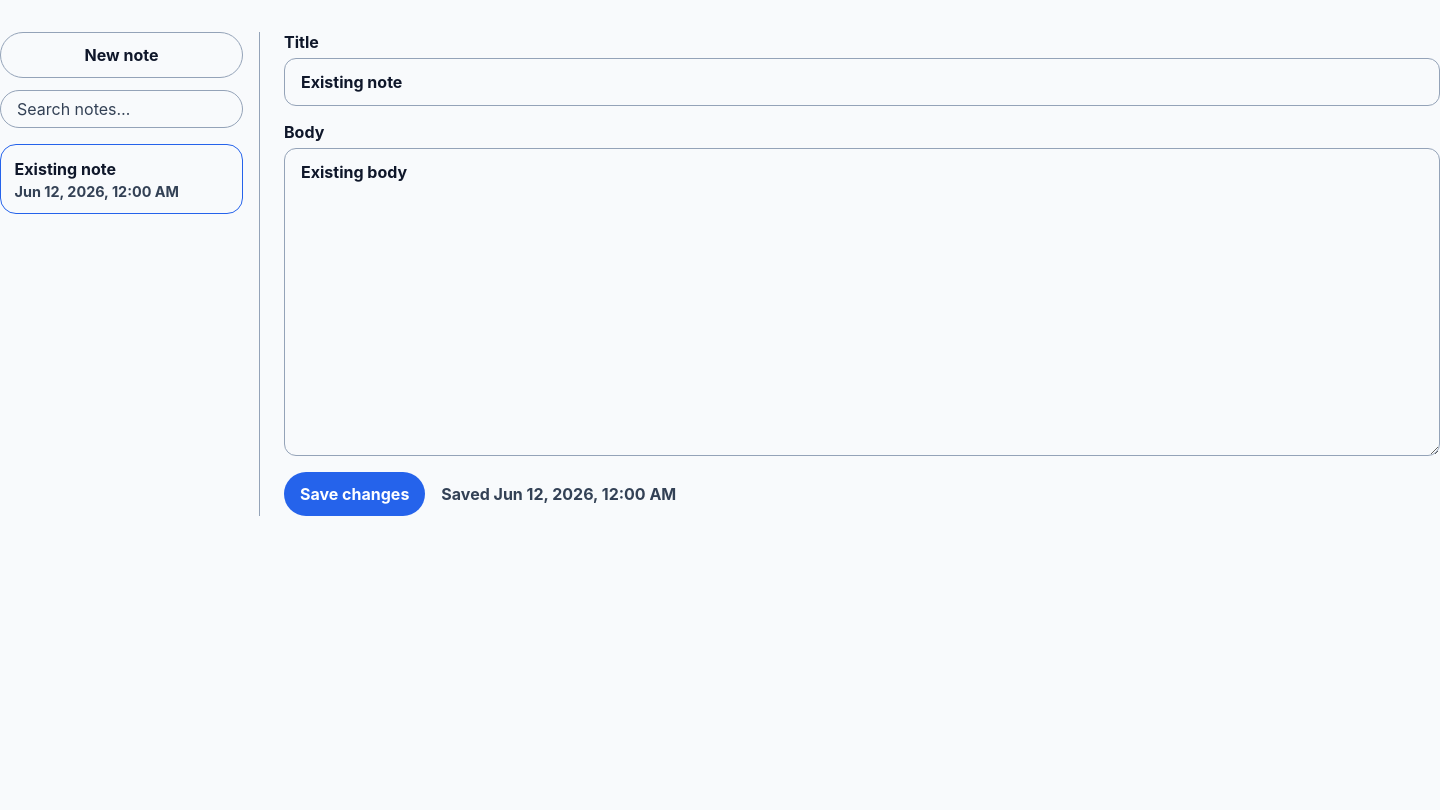
Test: NoteEditor › unsaved changes guard › shows discard dialog when clicking new note with unsaved changes
Type " modified" into the field labelled "Title" at [862, 82], box left=284, top=58, right=1439, bottom=106
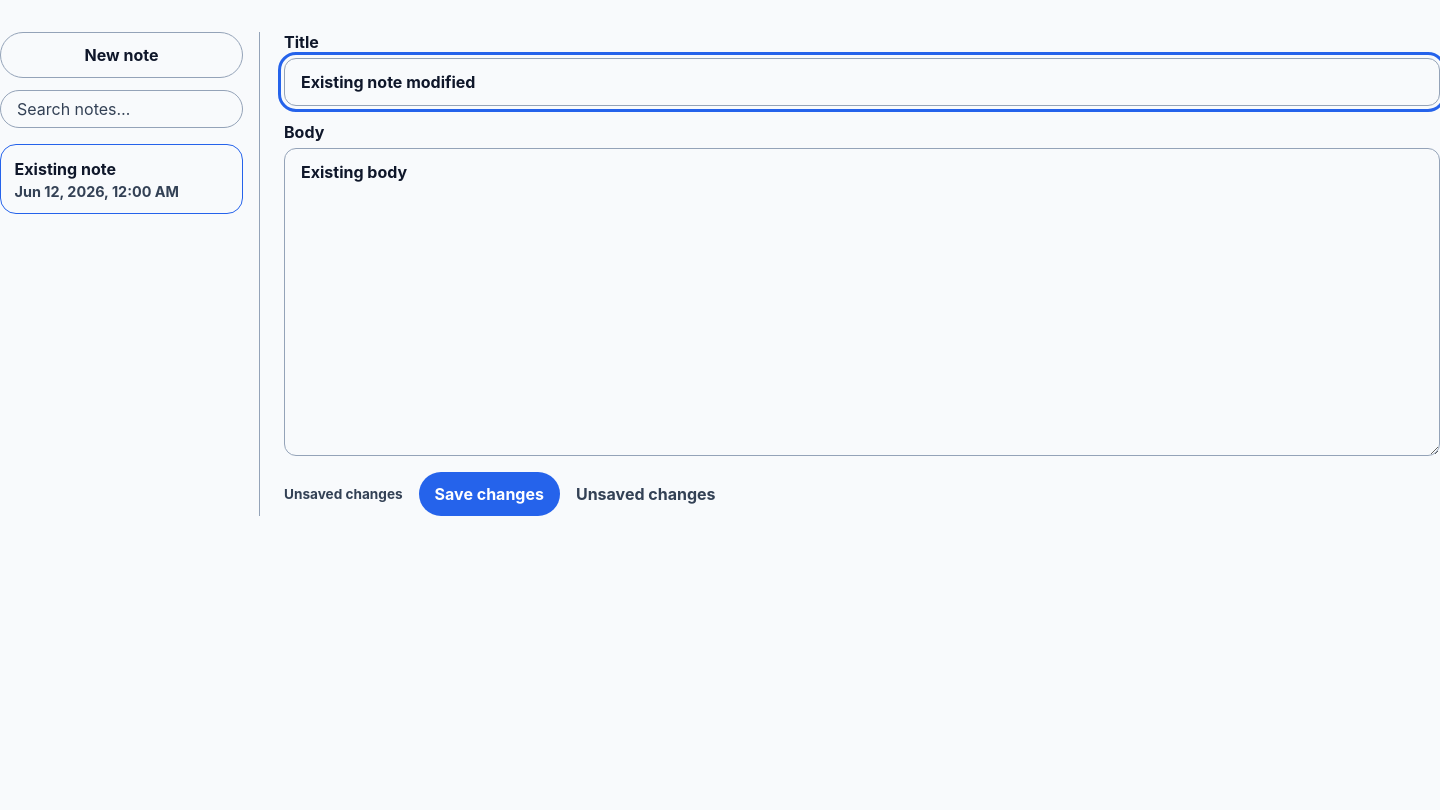
// Click "New note" while dirty
Click the button "New note" at [122, 55], box left=0, top=32, right=243, bottom=78
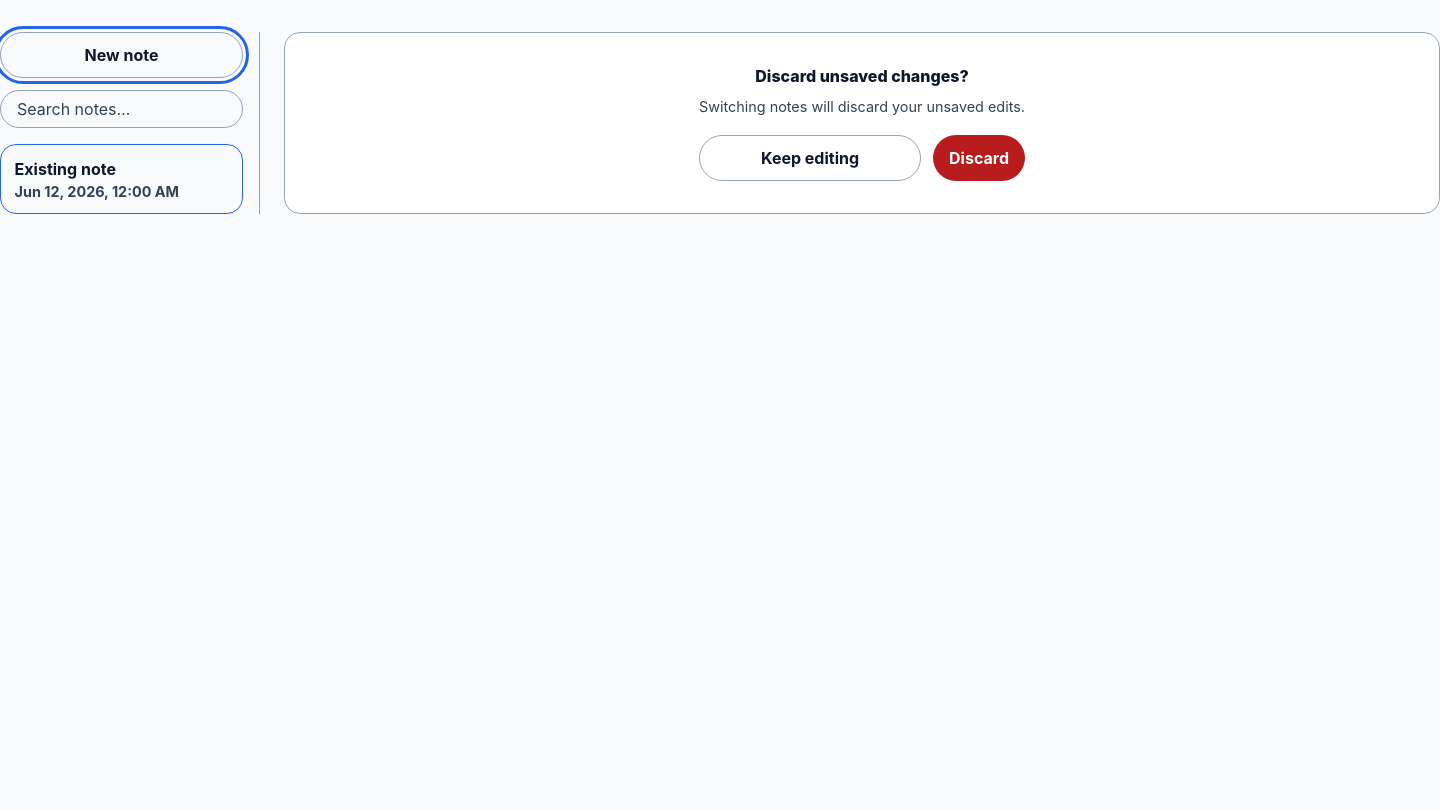
Expected: the dialog is shown, left=284, top=32, right=1439, bottom=214
